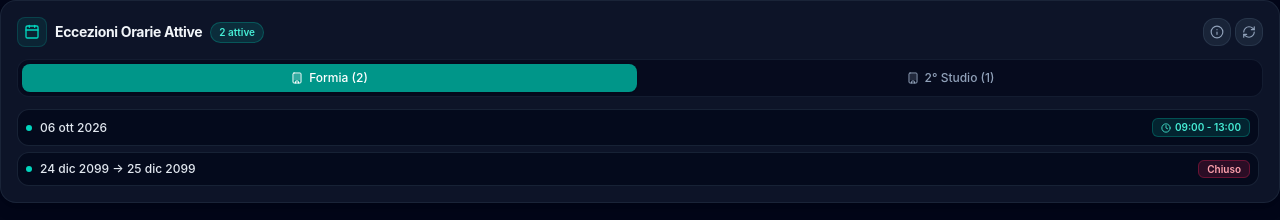
Test: ActiveExceptions Component › switches between studio tabs and displays their respective overrides
The image size is (1280, 220).
Click on Secondo Studio tab
Step 1. Click the button "2° Studio (1)" → (950, 78), box [643, 64, 1258, 92]
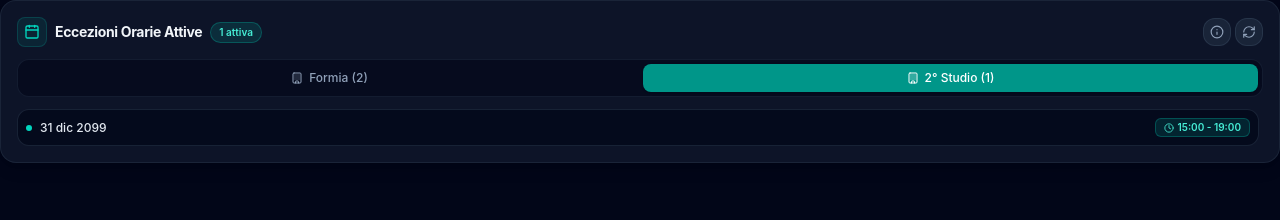
Now the text "15:00 - 19:00" is shown, box [1154, 118, 1250, 137]
